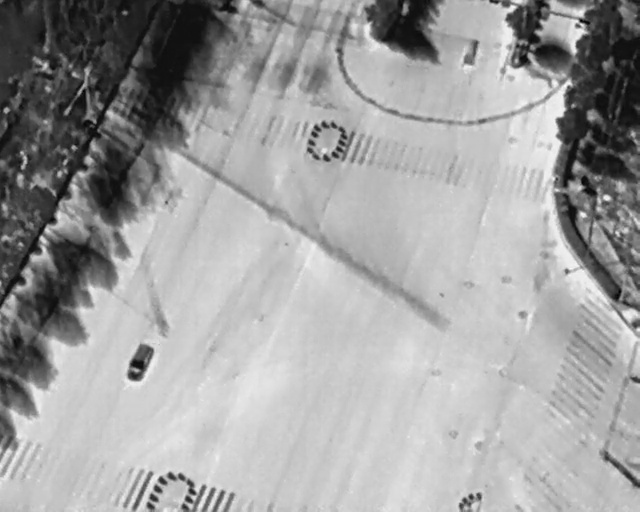Car: (123, 340, 156, 383), (461, 36, 480, 68)
